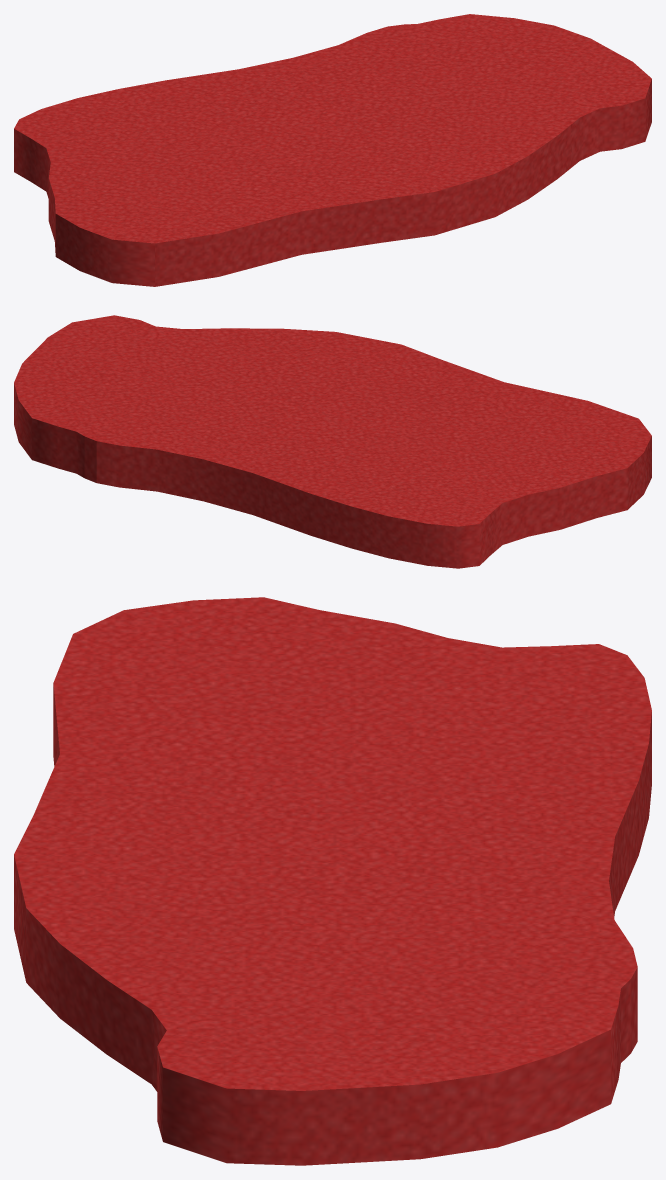
Rendered from DeerMeat_01.obj.
3 renders of one model, top to bottom at view 1: azimuth 30°, elevation 25°; view 2: azimuth 150°, elevation 25°; view 3: azimuth 270°, elevation 25°, orthographic. The views are drawn at different scales.
Visible parts, largest first — view 1: pCube1; view 2: pCube1; view 3: pCube1.
Part boxes in pixels (<box>): pCube1: <box>14,14,651,286</box>; pCube1: <box>14,315,651,568</box>; pCube1: <box>14,597,651,1165</box>.
Bounding box in the file's own units: 17 × 1.2 × 9.28.
Materials: 1 (1 with a texture image).
